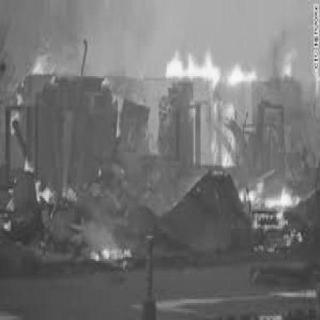Fire: (165, 48, 311, 164), (231, 176, 305, 248), (100, 70, 132, 138), (32, 176, 78, 206), (0, 178, 17, 230)
